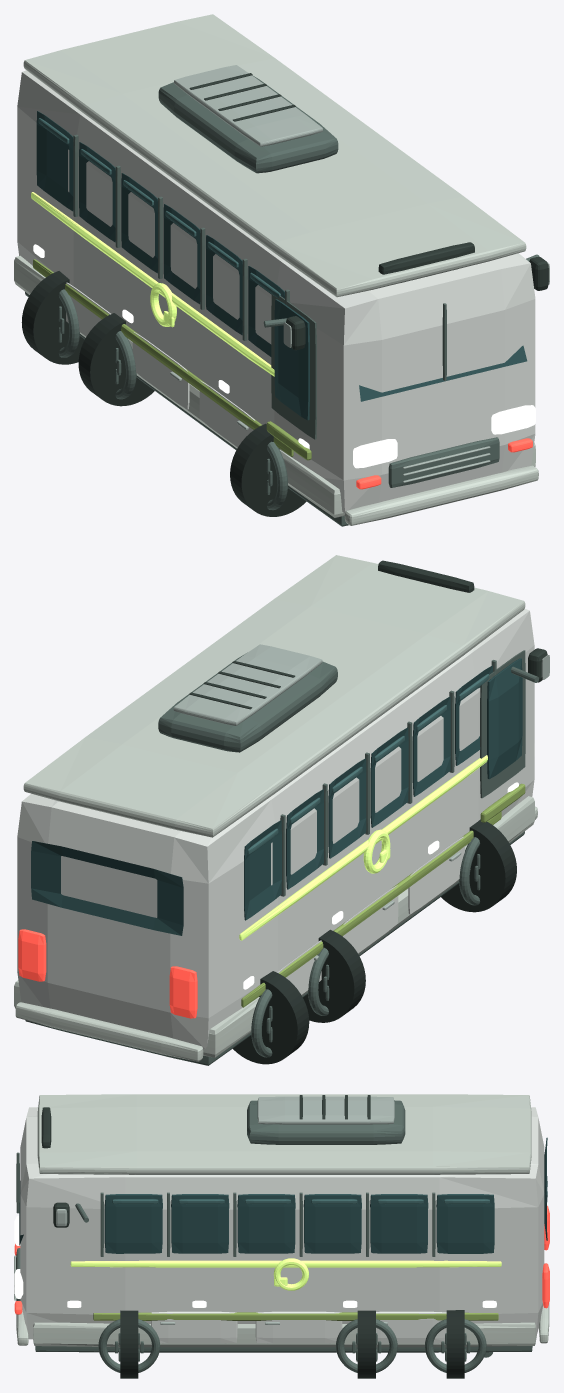
The model's file is qnot-coach-premium.glb.
3 views of the same model, one above another, from view 1: azimuth 30°, elevation 25°; view 2: azimuth 150°, elevation 25°; view 3: azimuth 270°, elevation 25° (orthographic). The views are drawn at different scales.
Parts seen in each view (by area): view 1: Merged_body, Merged_body_shadow, Merged_metal_dark, Merged_glass, Merged_metal, Tyre_-1_1, Tyre_-1_2, Tyre_-1_0, Merged_lime, Merged_black, Merged_lime_dark, Merged_light (+4 smaller); view 2: Merged_body, Merged_body_shadow, Merged_glass, Merged_metal_dark, Merged_metal, Tyre_-1_0, Tyre_-1_2, Merged_lime, Tyre_-1_1, Merged_lime_dark, Merged_red, Merged_black (+4 smaller); view 3: Merged_body, Merged_body_shadow, Merged_glass, Merged_metal_dark, Merged_metal, Merged_lime, Merged_lime_dark, Merged_glass_hi, Tyre_1_0, Tyre_1_1, Tyre_1_2, Tyre_bead_1_0 (+5 smaller).
Boxes of the visible parts, <box> form: Merged_body: <box>17,70,535,513</box>; Merged_body_shadow: <box>14,14,538,525</box>; Merged_metal_dark: <box>25,75,539,526</box>; Merged_glass: <box>36,111,527,420</box>; Merged_metal: <box>170,65,549,482</box>; Tyre_-1_1: <box>78,313,154,406</box>; Tyre_-1_2: <box>230,423,306,516</box>; Tyre_-1_0: <box>21,271,84,364</box>; Merged_lime: <box>31,192,274,376</box>; Merged_black: <box>189,73,548,350</box>; Merged_lime_dark: <box>33,259,311,460</box>; Merged_light: <box>33,244,535,468</box>; Merged_body: <box>17,609,534,1048</box>; Merged_body_shadow: <box>14,555,537,1061</box>; Merged_glass: <box>31,658,522,935</box>; Merged_metal_dark: <box>25,650,538,1065</box>; Merged_metal: <box>173,644,549,960</box>; Tyre_-1_0: <box>233,971,309,1064</box>; Tyre_-1_2: <box>441,819,516,912</box>; Merged_lime: <box>239,755,487,940</box>; Tyre_-1_1: <box>303,929,365,1022</box>; Merged_lime_dark: <box>241,783,525,1007</box>; Merged_red: <box>18,929,197,1018</box>; Merged_black: <box>189,560,547,709</box>; Merged_body: <box>20,1107,544,1343</box>; Merged_body_shadow: <box>16,1094,549,1347</box>; Merged_glass: <box>19,1137,547,1253</box>; Merged_metal_dark: <box>16,1100,532,1361</box>; Merged_metal: <box>14,1096,394,1324</box>; Merged_lime: <box>70,1258,501,1290</box>; Merged_lime_dark: <box>93,1312,498,1320</box>; Merged_glass_hi: <box>112,1199,489,1204</box>; Tyre_1_0: <box>446,1310,464,1378</box>; Tyre_1_1: <box>357,1310,375,1378</box>; Tyre_1_2: <box>120,1310,138,1378</box>; Tyre_bead_1_0: <box>425,1319,486,1372</box>.
Bounding box in the file's own units: 3.32 × 3.39 × 7.11.
